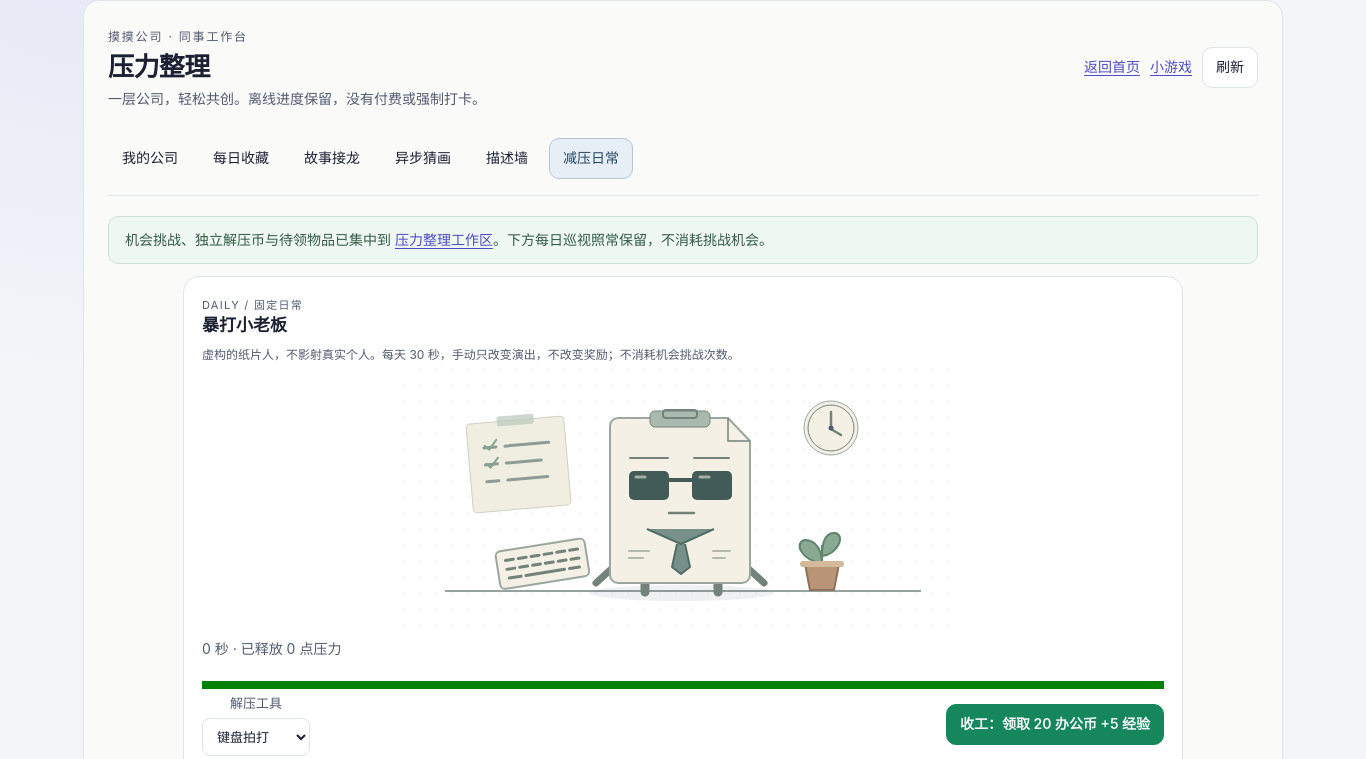
it: Office workspace functional controls › preserves the original daily boss commands and links to the unified chance workspace
Expected: the heading "暴打小老板" is shown, [202,316,287,336]
What coordinates should you click on to do the following:
click the button "收工：领取 20 办公币 +5 经验"
I would click on:
 (1055, 725)
Its box is [946,704,1164,745].
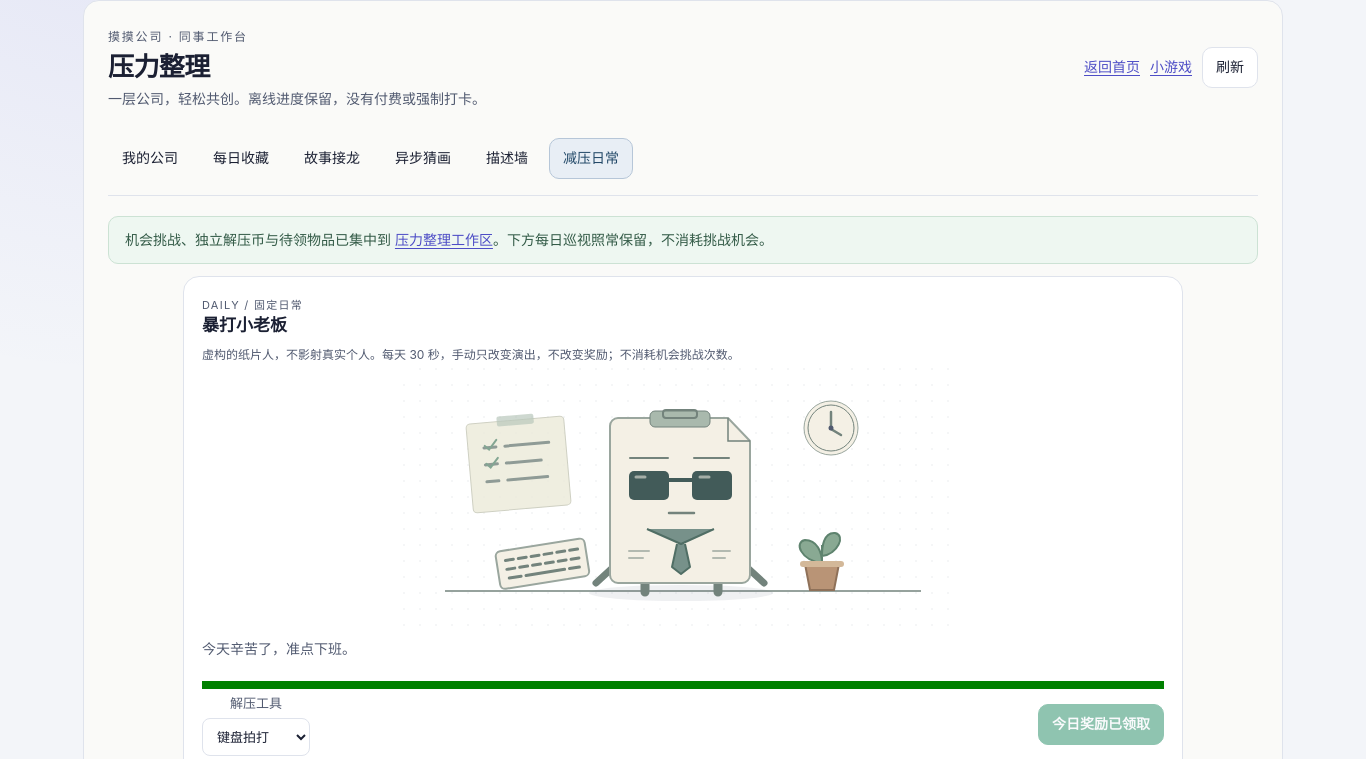
Expected: the button "今日奖励已领取" is disabled, [1038,704,1164,745]
